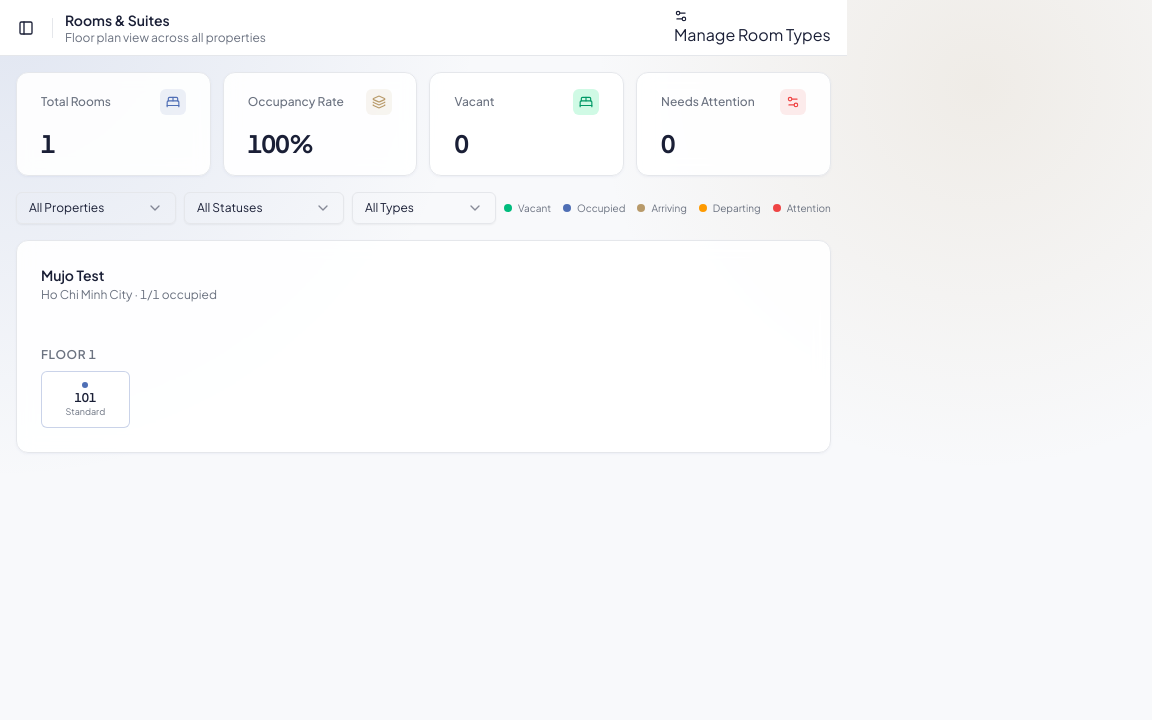
Test: Floor Plan room status updates › opens the status chooser and PATCHes the selected room status
The image size is (1152, 720).
Later steps or results of the test are not shown.
Click the button with aria-label "room 101" at point(85, 400), box [41,371,130,428]
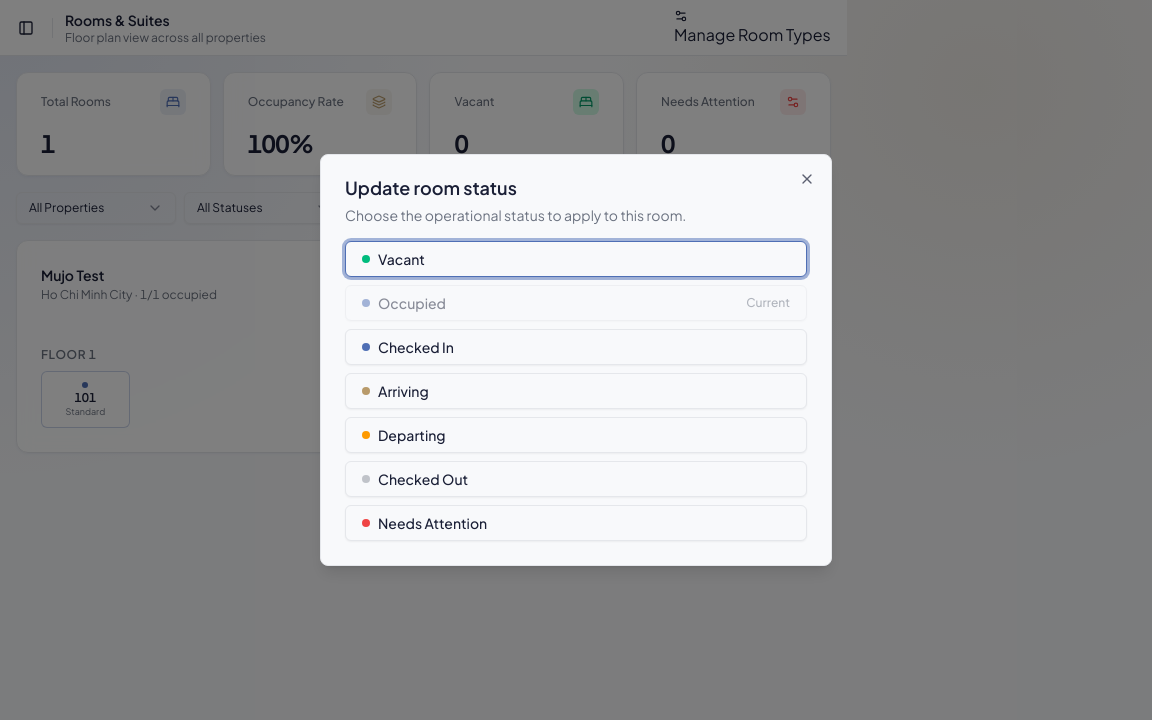
Result: the dialog "Update room status" is shown at [320,154,832,566]
